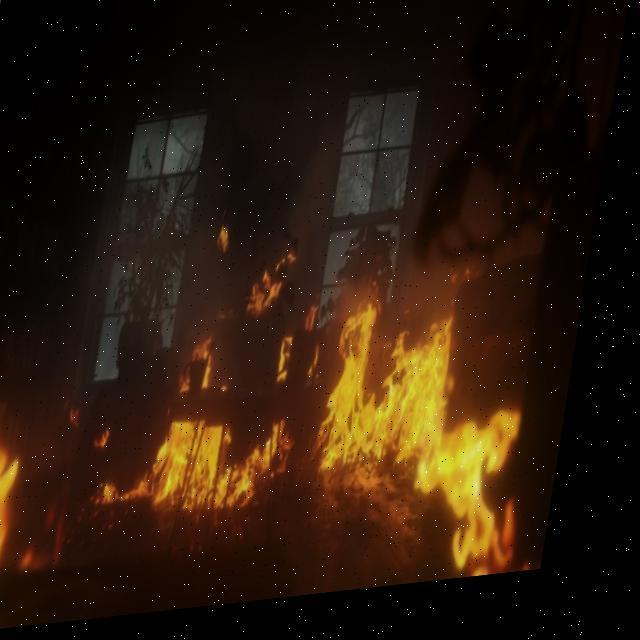Fire: (0, 236, 576, 631)
